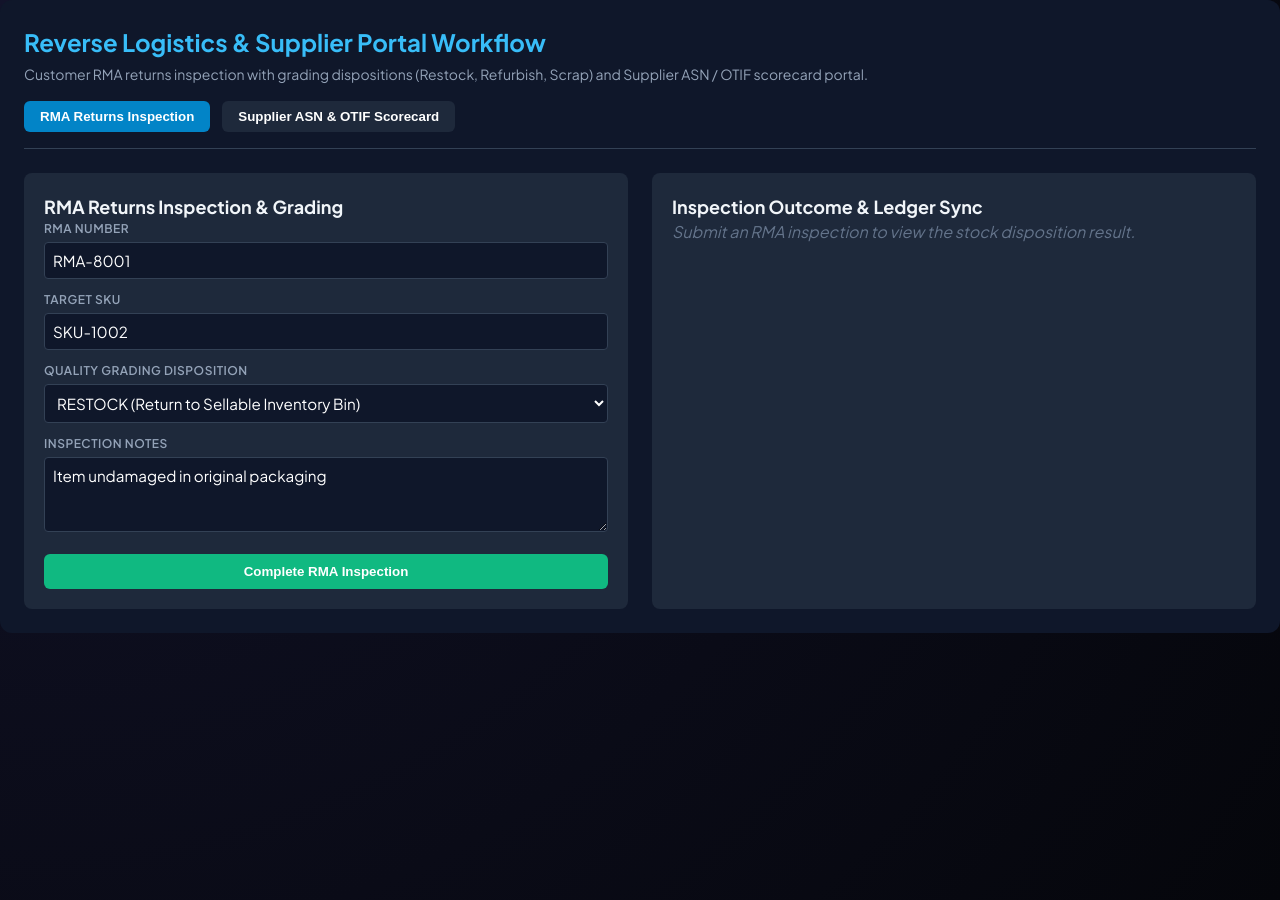
Scenario: ReverseLogisticsSupplierPanel › handles RMA API error flow
The image size is (1280, 900).
Step 1. Click the button "Complete RMA Inspection" → (326, 572), box top-left (44, 554), bottom-right (608, 589)
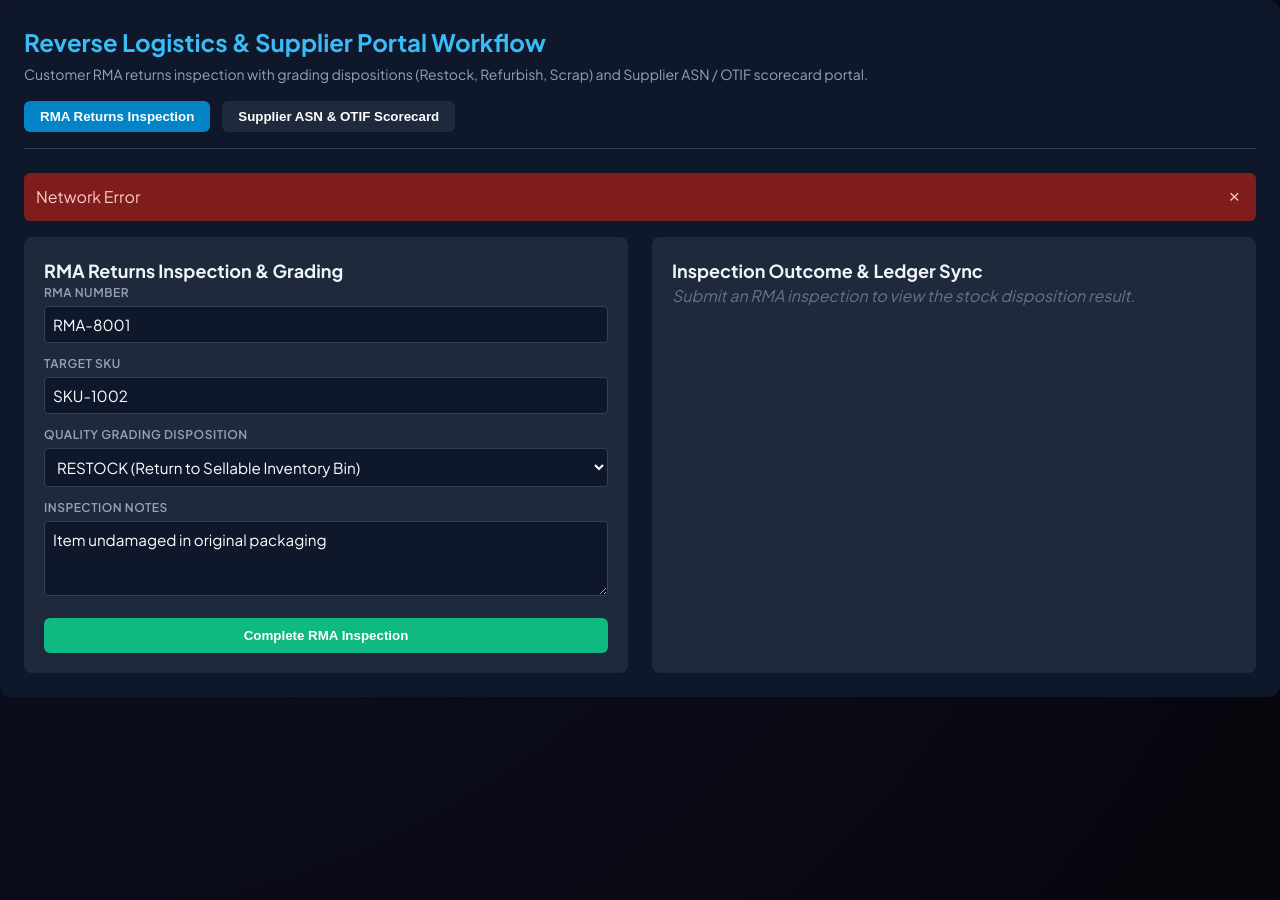
Result: the text "Network Error" is shown at top-left (36, 185), bottom-right (140, 209)
